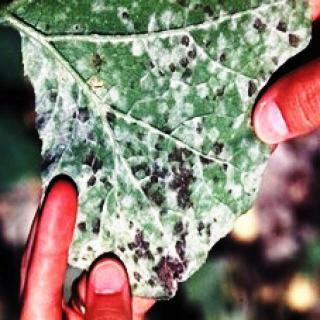grey mildew: (25, 18, 270, 294)
